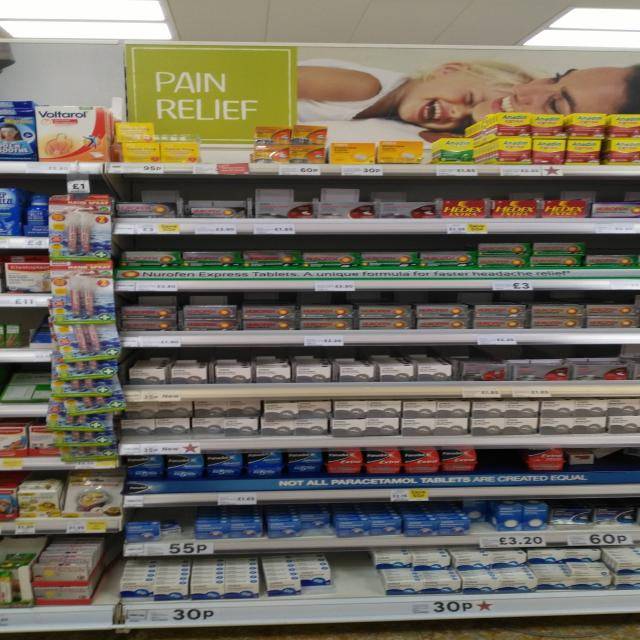unorganised: (551, 502, 637, 529), (259, 554, 303, 599), (113, 122, 158, 146), (287, 123, 329, 147), (303, 505, 334, 535), (469, 501, 496, 532), (161, 514, 193, 539)
